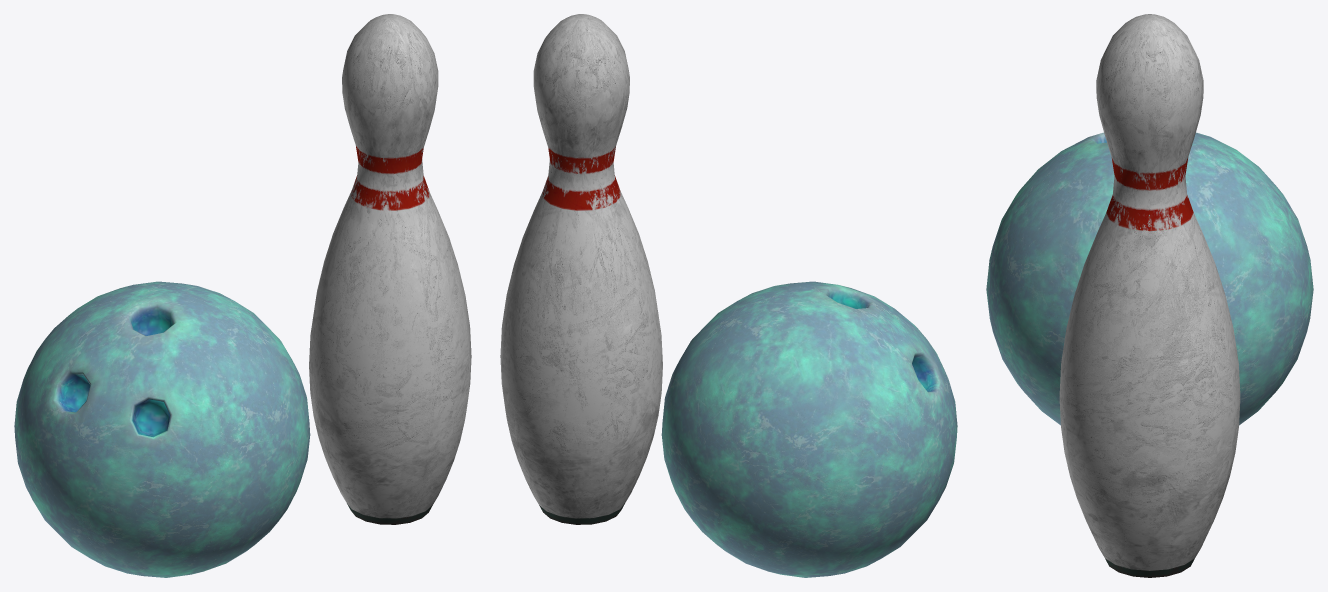
File: bowling_ball_and_pin.fbx
3 views of the same model, side by side, from view 1: azimuth 30°, elevation 25°; view 2: azimuth 150°, elevation 25°; view 3: azimuth 270°, elevation 25° (orthographic). The views are drawn at different scales.
Visible parts, largest first — view 1: Bowling_ball, Bowling_pin; view 2: Bowling_ball, Bowling_pin; view 3: Bowling_pin, Bowling_ball.
Part boxes in pixels (x1,y1,x2,y2): Bowling_ball: (14, 281, 310, 577); Bowling_pin: (309, 14, 471, 524); Bowling_ball: (661, 281, 957, 577); Bowling_pin: (500, 14, 662, 524); Bowling_pin: (1059, 14, 1240, 577); Bowling_ball: (986, 132, 1313, 425).
Bounding box in the file's own units: 121 × 133 × 72.52.
